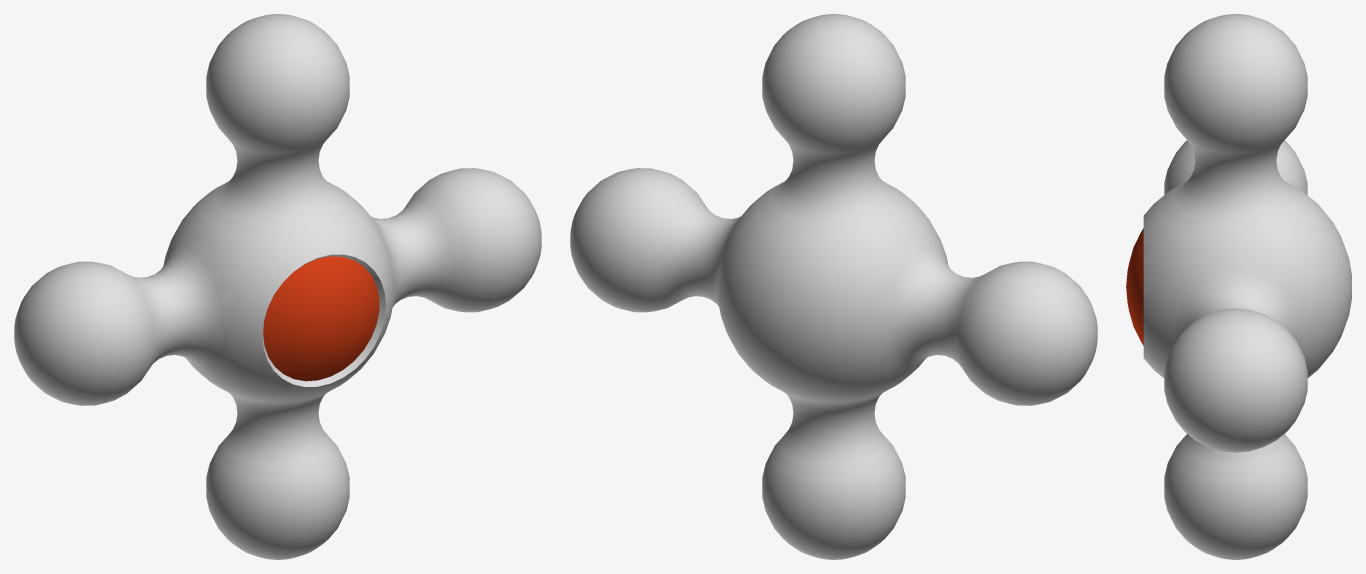
The model's file is faucet1_hot.fbx.
The picture shows the model from 3 angles, left to right: view 1: azimuth 30°, elevation 25°; view 2: azimuth 150°, elevation 25°; view 3: azimuth 270°, elevation 25°; orthographic projection.
Visible parts, largest first — view 1: transform5; view 2: transform5; view 3: transform5.
Boxes of the visible parts, <box> form: transform5: <box>14,14,541,559</box>; transform5: <box>570,14,1097,559</box>; transform5: <box>1126,14,1351,559</box>.
Bounding box in the file's own units: 0.5857 × 0.5857 × 0.2252.
